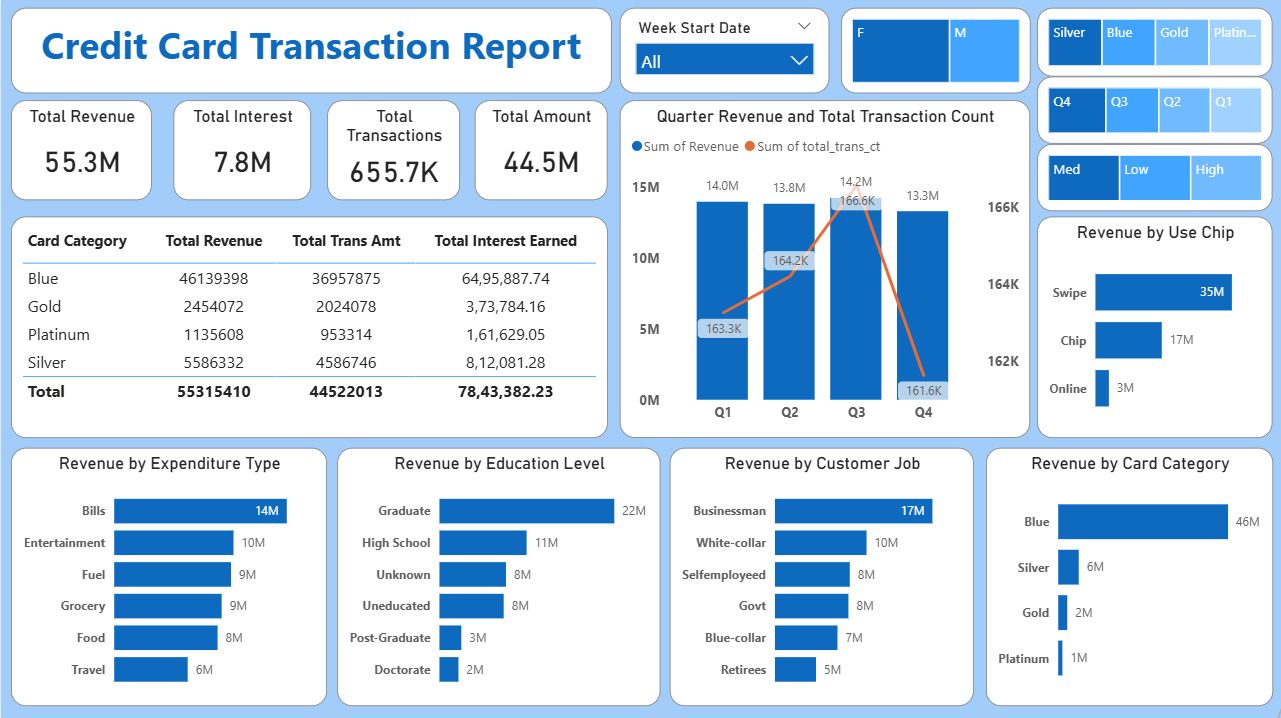

Layout of this report page (visuals, bound fields, positions):
{"tool":"powerbi","page":{"name":"CC Transaction","canvas":[1280,720],"ordinal":0},"visuals":[{"type":"textbox","box":[9.7,8.4,600.8,85.7],"z":0},{"type":"lineStackedColumnComboChart","title":"Quarter Revenue and Total Transaction Count","fields":{"Category":["public card_detail.qtr"],"Y":["Sum(public card_detail.Revenue)"],"Y2":["Sum(public card_detail.total_trans_ct)"]},"box":[618.9,101.3,410.2,337.8],"z":1000},{"type":"barChart","title":"Revenue by Expenditure Type","fields":{"Category":["public card_detail.exp_type"],"Y":["Sum(public card_detail.Revenue)"]},"box":[9.7,448.8,316.1,258.2],"z":2000},{"type":"barChart","title":"Revenue by Customer Job","fields":{"Category":["public customer_detail.customer_job"],"Y":["Sum(public card_detail.Revenue)"]},"box":[668.4,448.8,304,258.2],"z":3000},{"type":"barChart","title":"Revenue by Education Level","fields":{"Y":["Sum(public card_detail.Revenue)"],"Category":["public customer_detail.education_level"]},"box":[336.6,448.8,323.3,258.2],"z":4000},{"type":"barChart","title":"Revenue by Card Category","fields":{"Y":["Sum(public card_detail.Revenue)"],"Category":["public card_detail.card_category"]},"box":[984.5,448.8,287.1,258.2],"z":5000},{"type":"barChart","title":"Revenue by Use Chip","fields":{"Y":["Sum(public card_detail.Revenue)"],"Category":["public card_detail.use_chip"]},"box":[1036.3,217.2,235.3,222],"z":6000},{"type":"tableEx","fields":{"Values":["public card_detail.card_category","Sum(public card_detail.Revenue)","Sum(public card_detail.total_trans_amt)","Sum(public card_detail.interest_earned)"]},"box":[9.7,217.2,597.2,222],"z":7000},{"type":"card","title":"Total Revenue","fields":{"Values":["Sum(public card_detail.Revenue)"]},"box":[9.7,101.3,141.2,100.1],"z":8000},{"type":"card","title":"Total Interest","fields":{"Values":["Sum(public card_detail.interest_earned)"]},"box":[172.5,101.3,137.5,100.1],"z":9000},{"type":"card","title":"Total Transactions","fields":{"Values":["Sum(public card_detail.total_trans_ct)"]},"box":[325.7,101.3,132.7,100.1],"z":10000},{"type":"card","title":"Total Amount","fields":{"Values":["Sum(public card_detail.total_trans_amt)"]},"box":[474.1,101.3,132.7,100.1],"z":11000},{"type":"slicer","fields":{"Values":["public card_detail.week_start_date"]},"box":[618.9,8.4,209.9,85.7],"z":12000},{"type":"treemap","fields":{"Group":["public card_detail.qtr"],"Values":["Avg(public card_detail.client_num)"]},"box":[1036.3,77.2,235.3,67.6],"z":13000},{"type":"treemap","fields":{"Values":["CountNonNull(public card_detail.client_num)"],"Group":["public customer_detail.gender"]},"box":[839.7,8.4,189.4,85.7],"z":14000},{"type":"treemap","fields":{"Values":["Avg(public card_detail.client_num)"],"Group":["public card_detail.card_category"]},"box":[1036.3,8.4,235.3,68.8],"z":15000},{"type":"treemap","fields":{"Values":["Avg(public card_detail.client_num)"],"Group":["public customer_detail.IncomeGroup"]},"box":[1036.3,144.8,235.3,67.6],"z":16000}]}

Visuals, with their boxes in screenshot pixels (x1, y1, x2, y2), scaled from the page's 1280x720 canvas onto the 1281x718 screenshot:
textbox: <bbox>10, 8, 611, 94</bbox>
"Quarter Revenue and Total Transaction Count" lineStackedColumnComboChart: <bbox>619, 101, 1030, 438</bbox>
"Revenue by Expenditure Type" barChart: <bbox>10, 448, 326, 705</bbox>
"Revenue by Customer Job" barChart: <bbox>669, 448, 973, 705</bbox>
"Revenue by Education Level" barChart: <bbox>337, 448, 660, 705</bbox>
"Revenue by Card Category" barChart: <bbox>985, 448, 1273, 705</bbox>
"Revenue by Use Chip" barChart: <bbox>1037, 217, 1273, 438</bbox>
tableEx - public card_detail.card_category x Sum(public card_detail.Revenue): <bbox>10, 217, 607, 438</bbox>
"Total Revenue" card: <bbox>10, 101, 151, 201</bbox>
"Total Interest" card: <bbox>173, 101, 310, 201</bbox>
"Total Transactions" card: <bbox>326, 101, 459, 201</bbox>
"Total Amount" card: <bbox>474, 101, 607, 201</bbox>
slicer - public card_detail.week_start_date: <bbox>619, 8, 829, 94</bbox>
treemap - public card_detail.qtr x Avg(public card_detail.client_num): <bbox>1037, 77, 1273, 144</bbox>
treemap - CountNonNull(public card_detail.client_num) x public customer_detail.gender: <bbox>840, 8, 1030, 94</bbox>
treemap - Avg(public card_detail.client_num) x public card_detail.card_category: <bbox>1037, 8, 1273, 77</bbox>
treemap - Avg(public card_detail.client_num) x public customer_detail.IncomeGroup: <bbox>1037, 144, 1273, 212</bbox>
